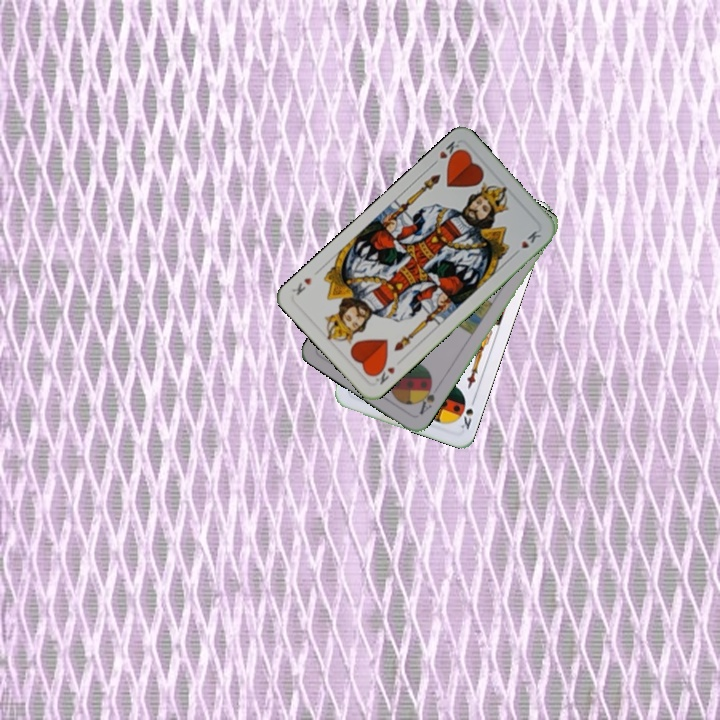HK: (427, 137, 464, 169), (368, 359, 398, 387)
SA: (414, 379, 437, 418)
SK: (456, 393, 478, 432)
